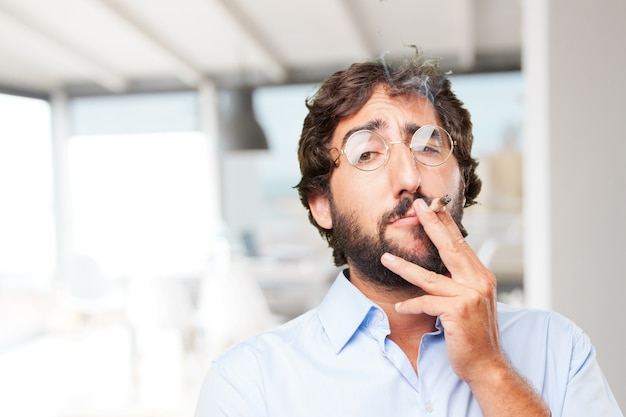cigarette: (429, 193, 451, 214)
